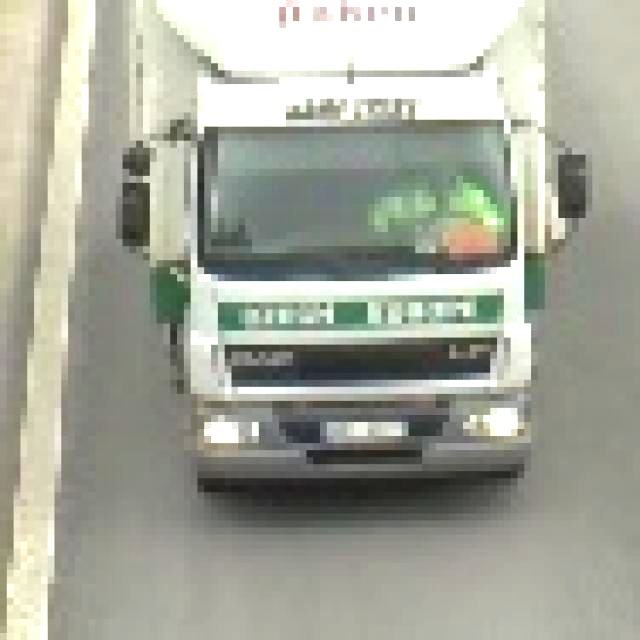truck: (91, 0, 615, 512)
